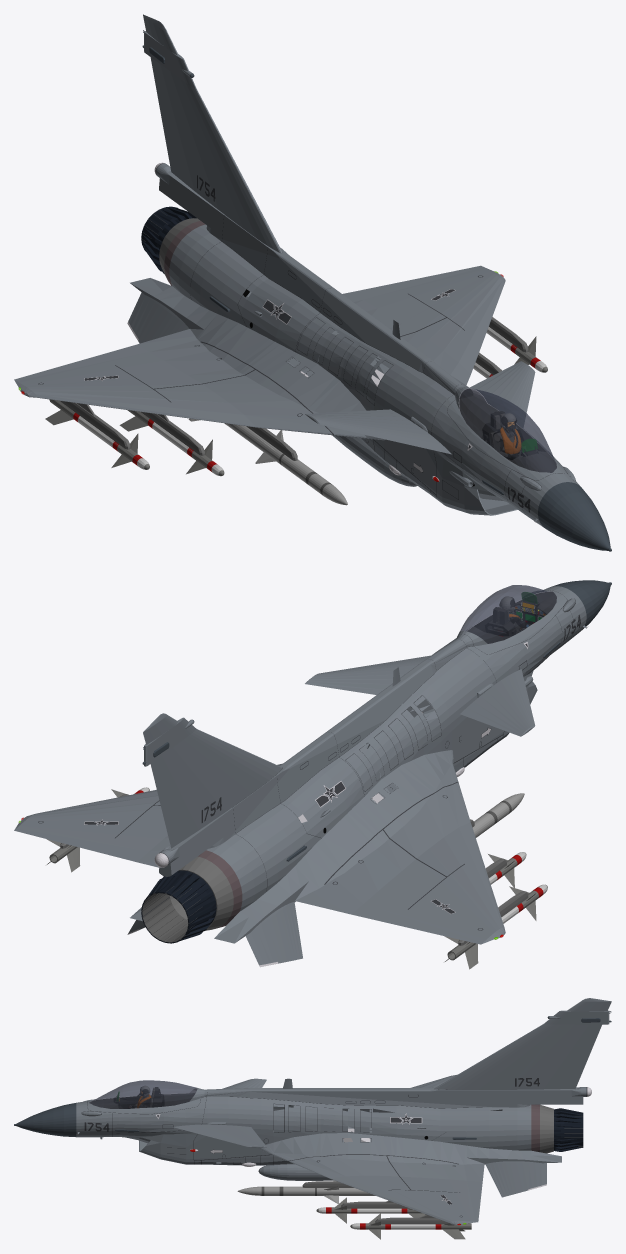
The picture shows the model from 3 angles, top to bottom: view 1: azimuth 30°, elevation 25°; view 2: azimuth 150°, elevation 25°; view 3: azimuth 270°, elevation 25°; orthographic projection. The views are drawn at different scales.
Visible parts, largest first — view 1: Model, Group39, Group20, Group34, Group17, Group19, Group27, Group28, Group31, Group25, Group30; view 2: Model, Group19, Group39, Group34, Group17, Group27, Group20, Group15, Group25, Group28; view 3: Model, Group39, Group20, Group19, Group25, Group17, Group24, Group34, Group21, Group22.
Part boxes in pixels (x1,y1,x2,y2): Model: (18, 14, 611, 551); Group39: (447, 387, 566, 480); Group20: (188, 418, 417, 505); Group34: (14, 265, 491, 386); Group17: (459, 388, 556, 472); Group19: (141, 206, 249, 297); Group27: (45, 399, 149, 469); Group28: (119, 410, 224, 476); Group31: (60, 401, 130, 449); Group25: (486, 327, 547, 372); Group30: (141, 412, 204, 455); Model: (18, 580, 611, 967); Group19: (141, 856, 233, 943); Group39: (448, 585, 566, 654); Group34: (14, 823, 492, 944); Group17: (467, 592, 556, 643); Group27: (444, 884, 547, 969); Group20: (472, 793, 524, 837); Group15: (485, 607, 516, 636); Group25: (46, 787, 149, 872); Group28: (488, 852, 526, 887); Model: (14, 998, 611, 1225); Group39: (87, 1080, 200, 1114); Group20: (237, 1164, 375, 1203); Group19: (540, 1104, 583, 1153); Group25: (350, 1213, 471, 1239); Group17: (89, 1092, 195, 1108); Group24: (316, 1197, 426, 1223); Group34: (459, 1187, 481, 1223); Group21: (375, 1215, 448, 1224); Group22: (341, 1200, 409, 1208).
Bounding box in the file's own units: 18.06 × 10.52 × 30.44.
